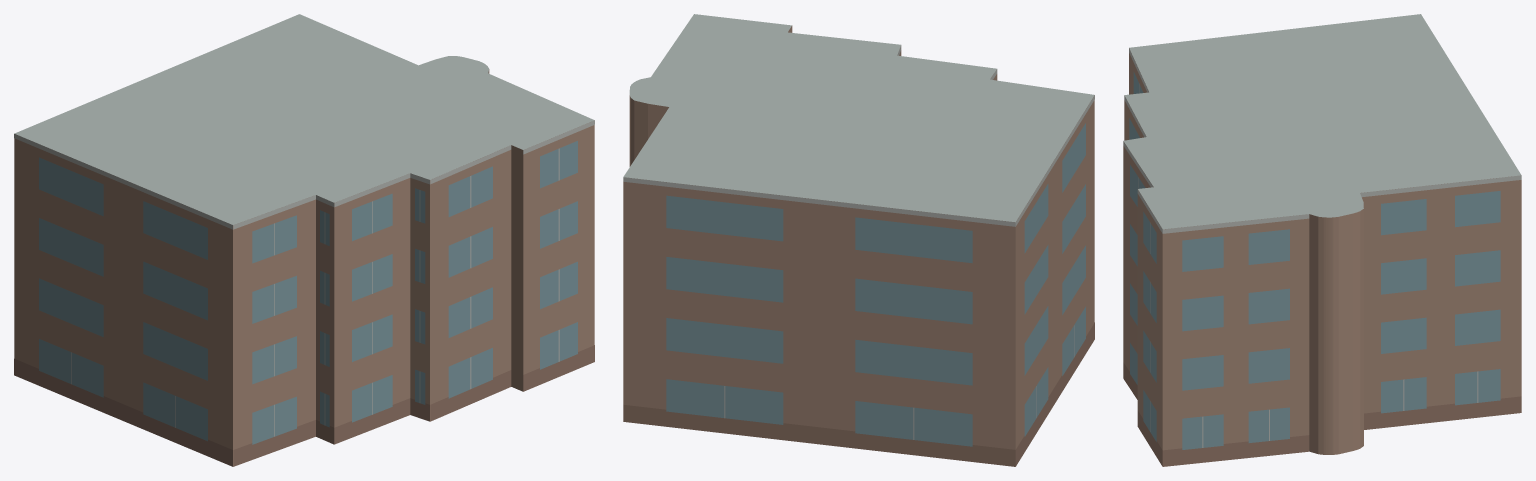
The model's file is survey-upis-32739970.glb.
3 views of the same model, side by side, from view 1: azimuth 30°, elevation 25°; view 2: azimuth 150°, elevation 25°; view 3: azimuth 270°, elevation 25° (orthographic). The views are drawn at different scales.
Visible parts, largest first — view 1: survey-upis-32739970.tmp; view 2: survey-upis-32739970.tmp; view 3: survey-upis-32739970.tmp.
Boxes of the visible parts, left/top/right/bottom form: survey-upis-32739970.tmp: left=14, top=14, right=594, bottom=466; survey-upis-32739970.tmp: left=623, top=14, right=1094, bottom=466; survey-upis-32739970.tmp: left=1123, top=14, right=1521, bottom=466.
Size of the model in its own units: 25.09 by 12.9 by 19.62.
